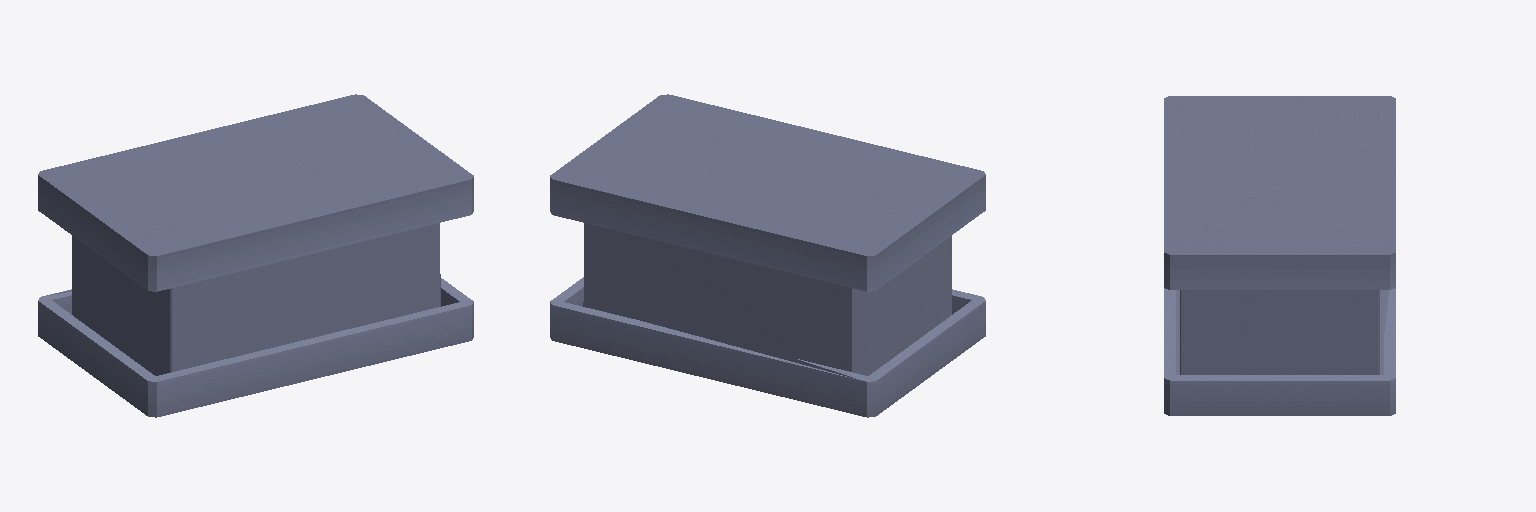
The picture shows the model from 3 angles: view 1: azimuth 30°, elevation 25°; view 2: azimuth 150°, elevation 25°; view 3: azimuth 270°, elevation 25°; orthographic projection.
Visible parts, largest first — view 1: Stone_Coffin_1; view 2: Stone_Coffin_1; view 3: Stone_Coffin_1.
Part boxes in pixels (x1,y1,x2,y2): Stone_Coffin_1: (38,94,473,417); Stone_Coffin_1: (550,94,985,417); Stone_Coffin_1: (1164,96,1395,415).
Size of the model in its own units: 1.06 by 0.5001 by 0.6532.
Materials: 1 (1 with a texture image).